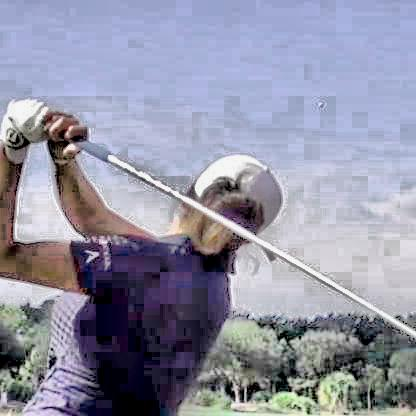golfball: (314, 99, 321, 107)
